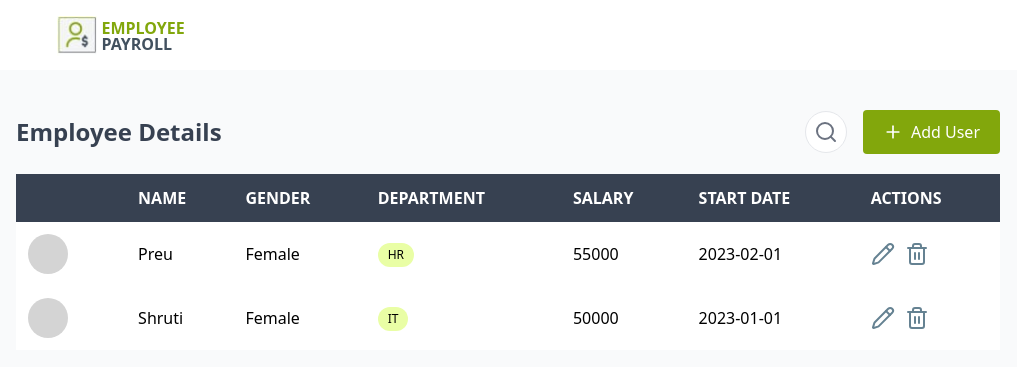
Scenario: Dashboard Component › filters employees based on search term
Expected: the text "Shruti" is shown, [126,286,233,350]
Expected: the text "Preu" is shown, [126,222,233,286]
Click the icon named "search" at (826, 132), box [814,120,838,144]
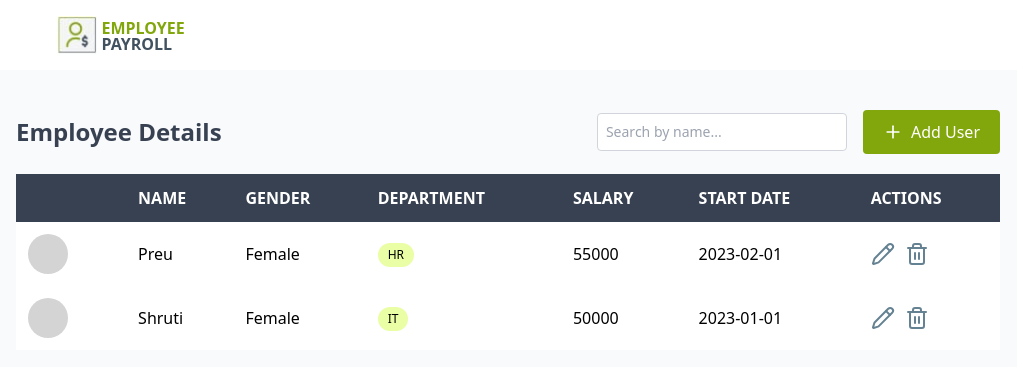
Result: the field with placeholder "Search by name..." is shown
Type "Shruti" into the field with placeholder "Search by name..." at (722, 132), box [597,113,847,151]
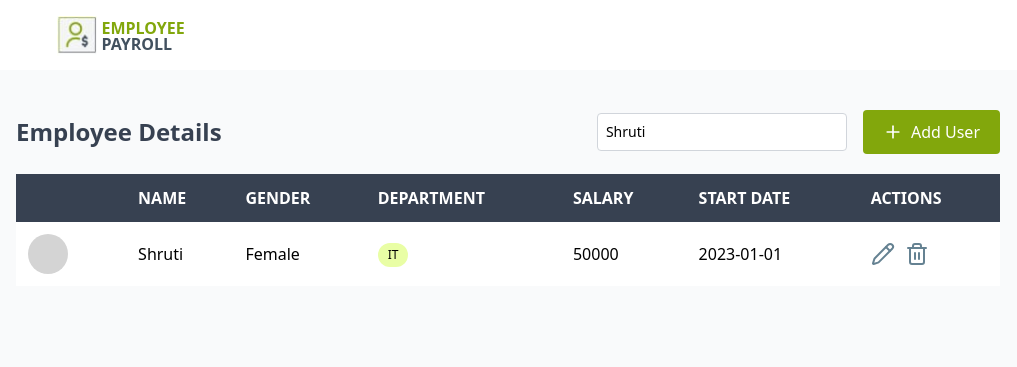
Expected: the text "Shruti" is shown, [126,222,233,286]
Result: the text "Preu" is gone
